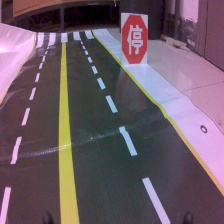stop: (120, 12, 150, 65)
